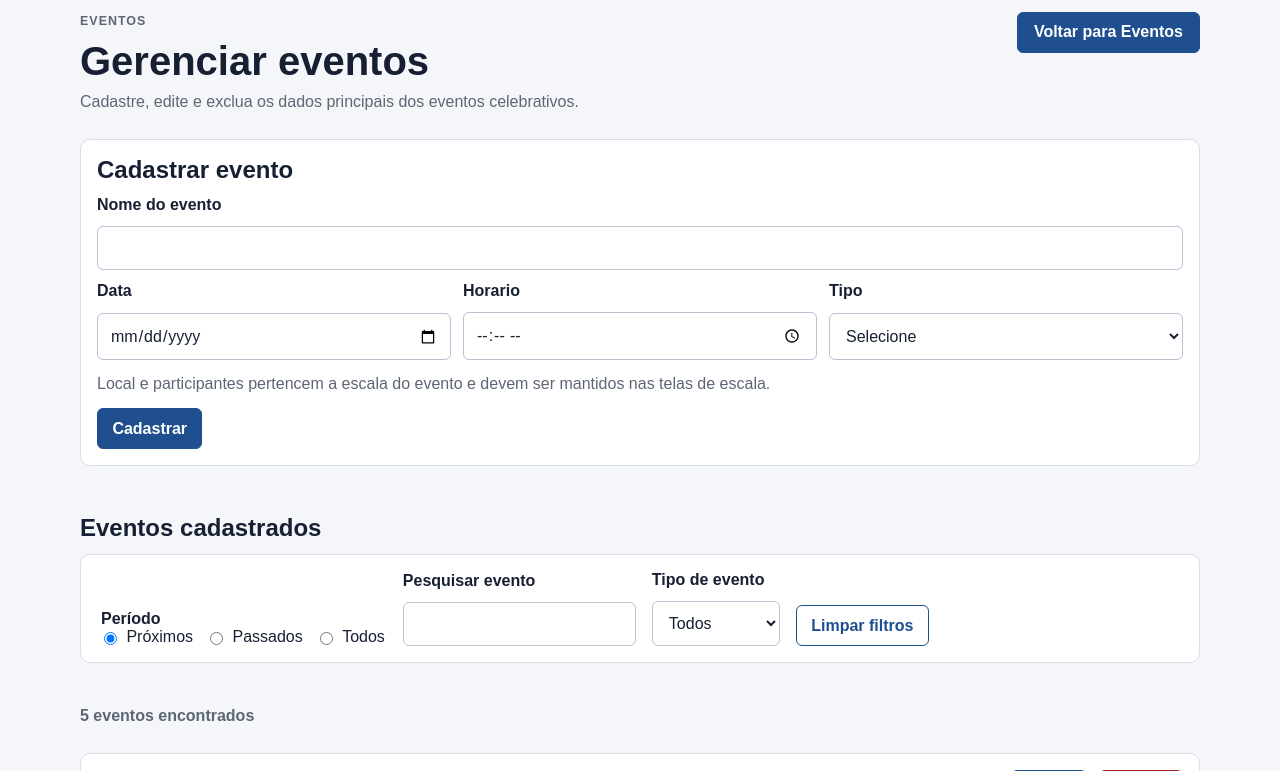
Test: EventManagementComponent › should show the generic filtered-empty message when search or type exclude all results
Click the radio button labelled "Todos" at (326, 639), box top-left (320, 632), bottom-right (333, 645)
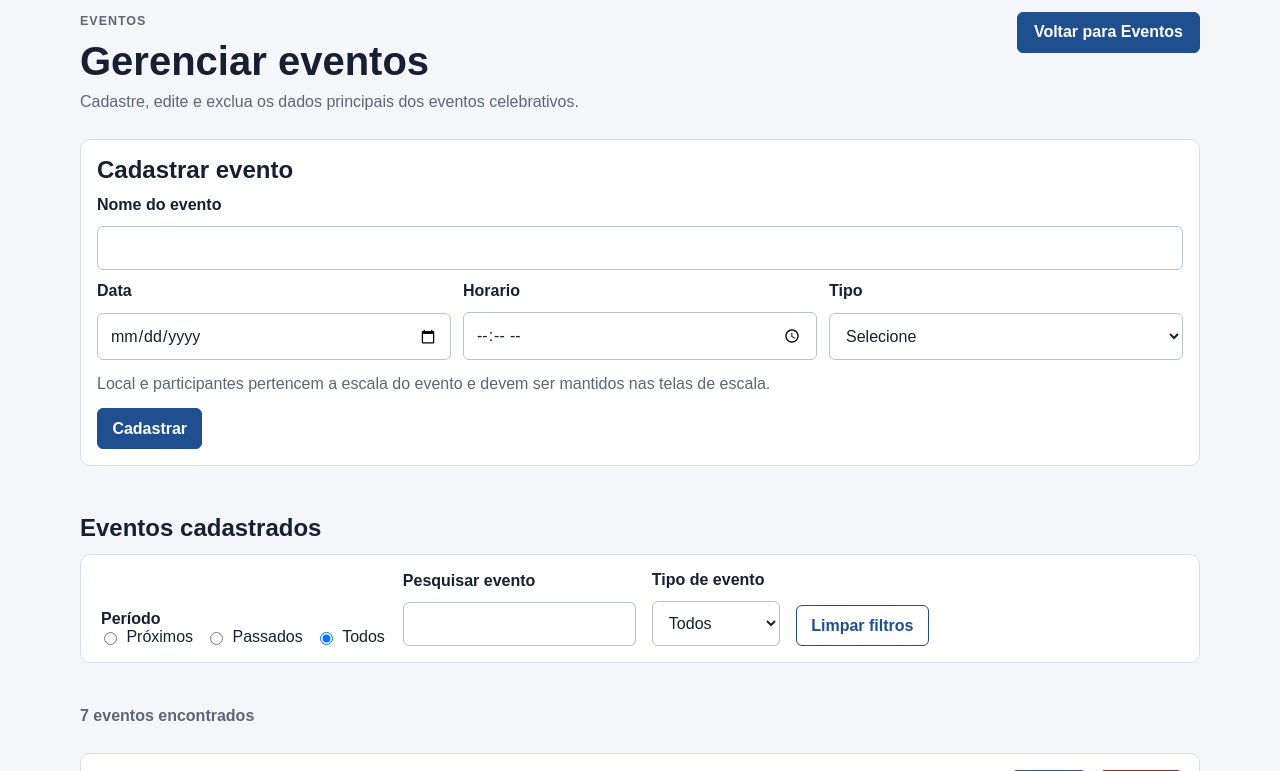
Type "nome que nao existe" into the search field with id "event-management-search" at (519, 624), box top-left (403, 602), bottom-right (636, 646)
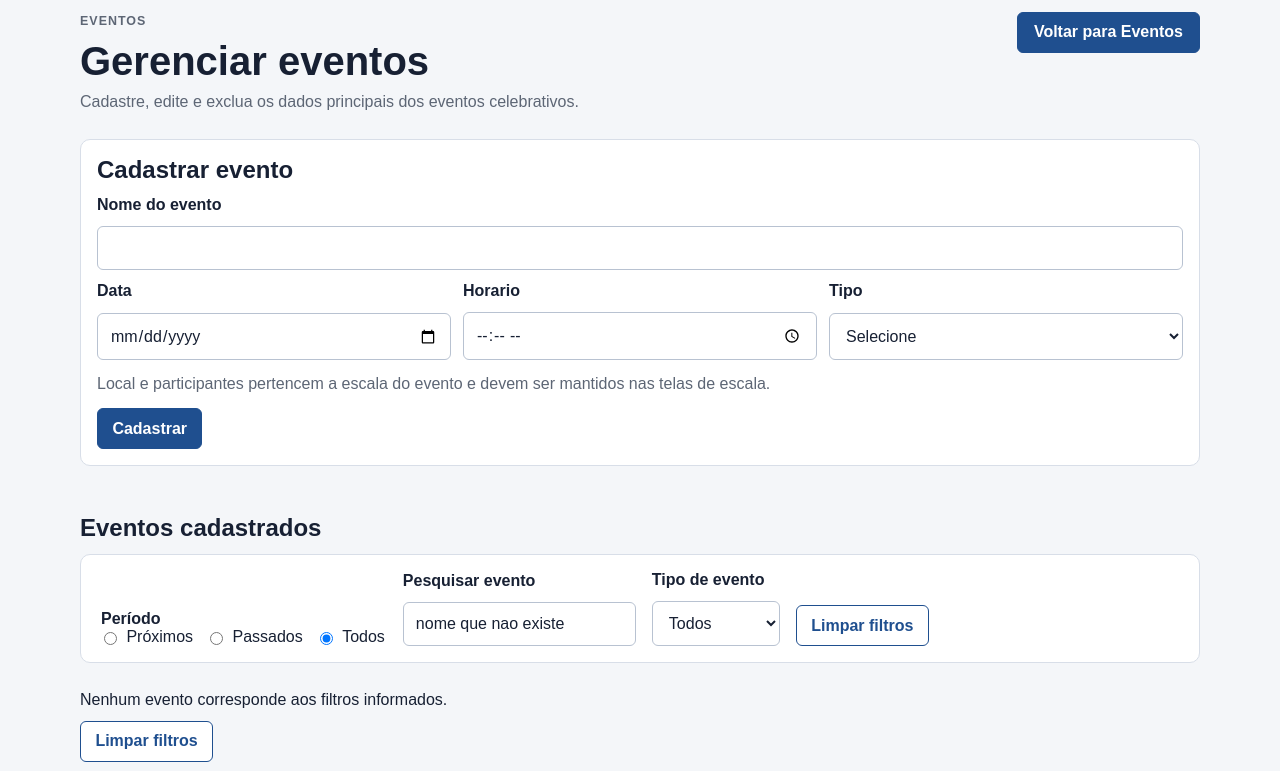
Now the text "Nenhum evento corresponde aos filtros informados." is shown, box top-left (80, 691), bottom-right (447, 709)
Now the 2nd button with class "event-management__button--secondary" is shown, box top-left (80, 721), bottom-right (213, 762)
